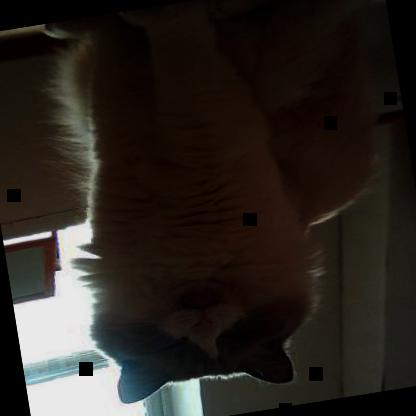cat: (31, 0, 416, 415)
